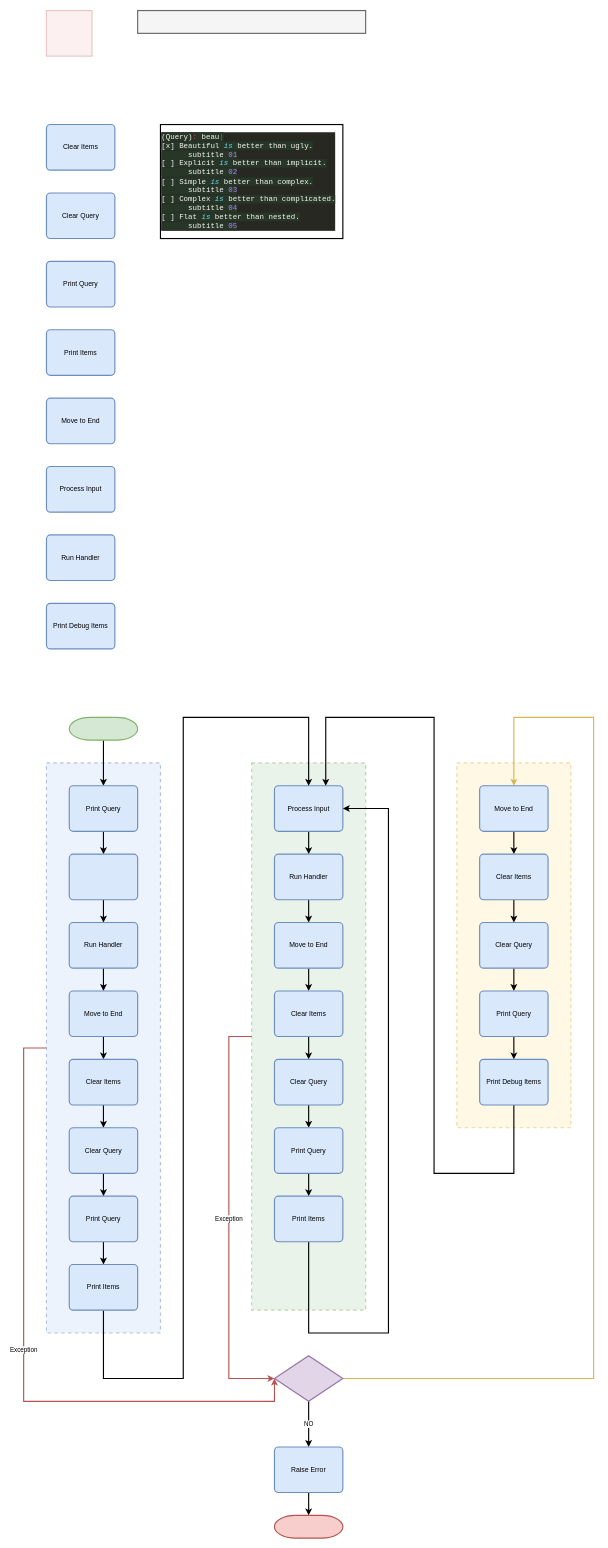
Some shapes in this 608 by 1548 pixel diagram are drawn without their labels. Here are the shapes that lost their labels. From the top down, the box of each, then its label:
(46, 10, 92, 56): focus
(137, 10, 366, 34): UI Event Loop
(68, 716, 138, 740): Start
(68, 853, 138, 900): Print Hello Items
(456, 762, 571, 1128): debug loop
(46, 762, 161, 1333): initialize
(251, 762, 366, 1310): main loop
(274, 1355, 343, 1402): Capture Error?
(274, 1514, 343, 1538): End
